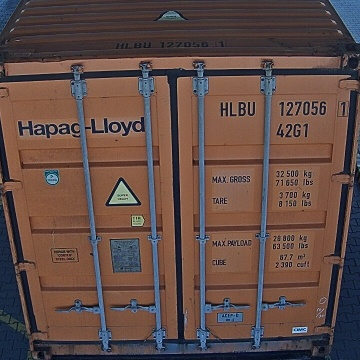serial_id: (220, 101, 348, 117)
